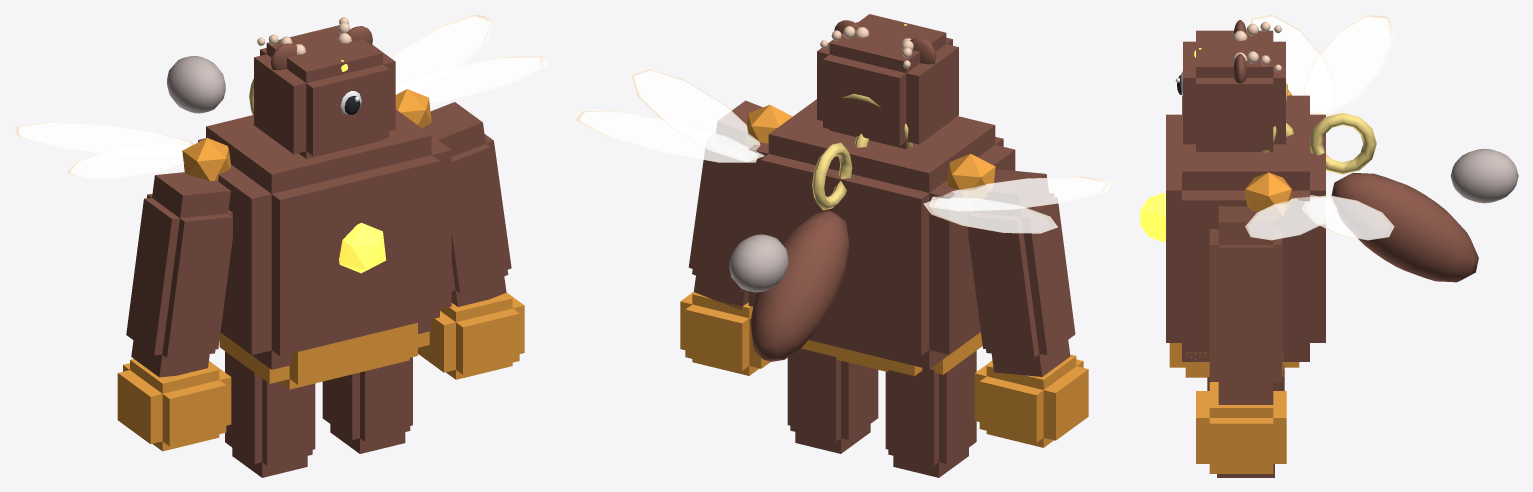
File: volcano_totem_08.glb
The picture shows the model from 3 angles, left to right: view 1: azimuth 30°, elevation 25°; view 2: azimuth 150°, elevation 25°; view 3: azimuth 270°, elevation 25°; orthographic projection. The views are drawn at different scales.
Visible parts, largest first — view 1: box; view 2: box; view 3: box.
Boxes of the visible parts, <box> form: box: <box>14,14,547,477</box>; box: <box>576,14,1111,477</box>; box: <box>1140,14,1518,477</box>.
Bounding box in the file's own units: 2.36 × 1.97 × 1.66.
